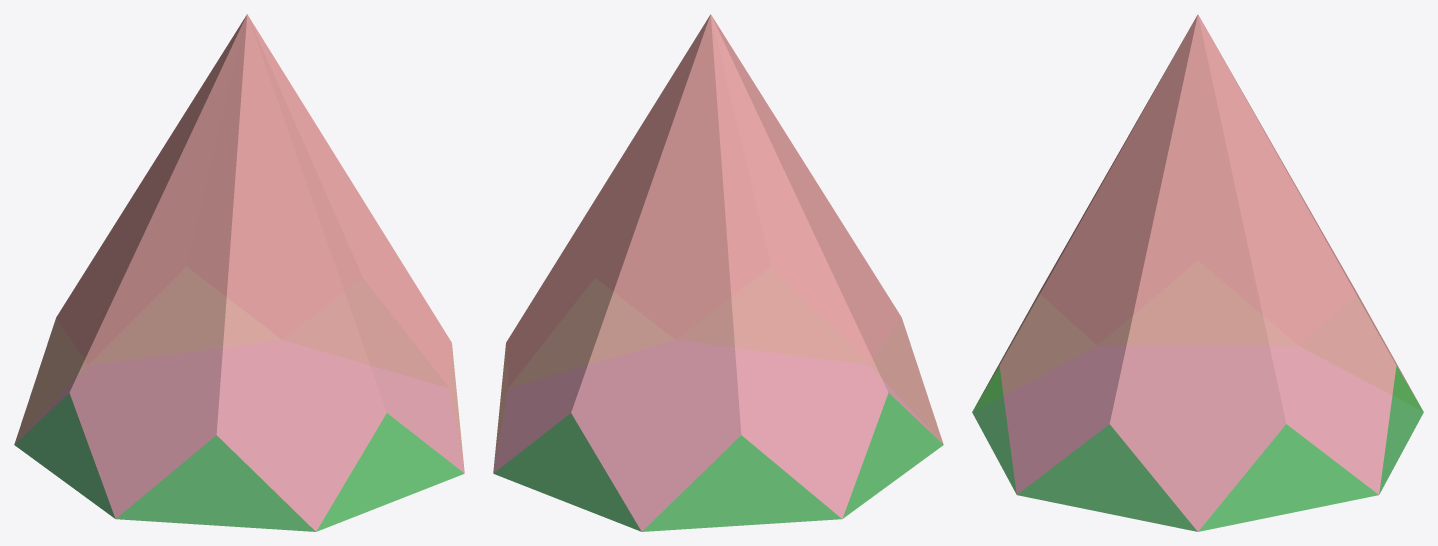
The model's file is pipa7.obj.
3 views of the same model, side by side, from view 1: azimuth 30°, elevation 25°; view 2: azimuth 150°, elevation 25°; view 3: azimuth 270°, elevation 25° (orthographic).
Bounding box in the file's own units: 1.9 × 2 × 1.95.
